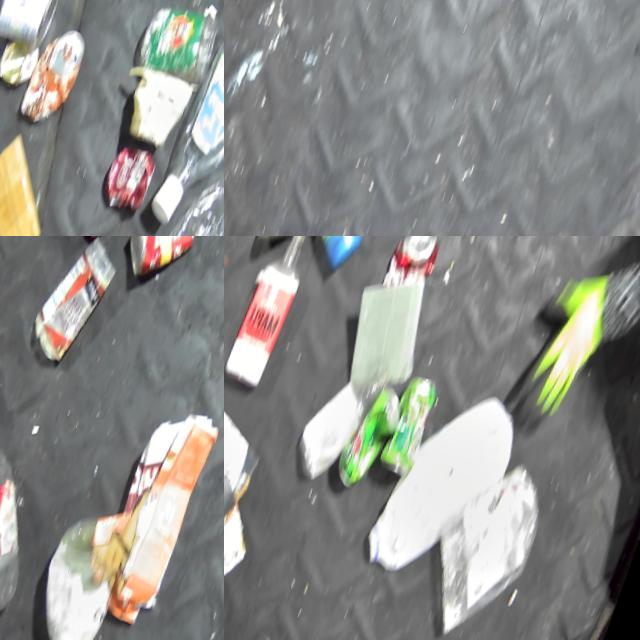can: (336, 371, 418, 491), (17, 15, 97, 129), (381, 363, 454, 478), (99, 135, 169, 213), (116, 236, 213, 289), (381, 236, 450, 292), (0, 0, 70, 49), (0, 33, 46, 88)
milk_jug: (366, 367, 539, 588)
plastic_bottle: (0, 408, 77, 640), (149, 5, 224, 236)
